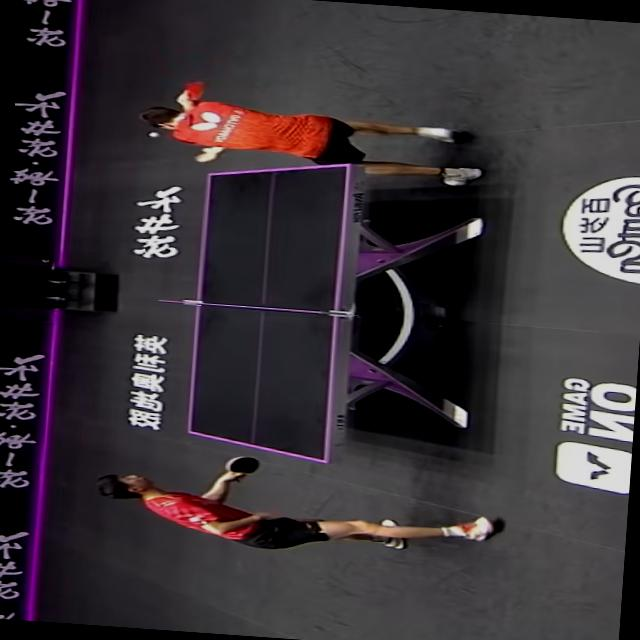TT Net: (157, 293, 354, 318)
TT Racket: (214, 448, 272, 480), (173, 71, 217, 111)
TT Table: (187, 151, 354, 462)
